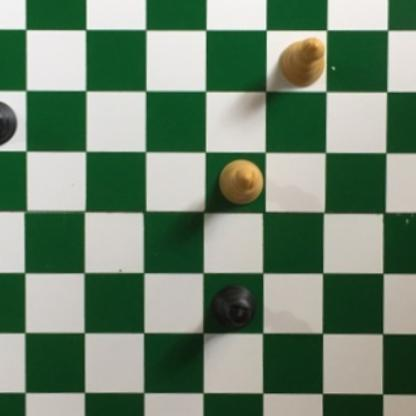black-bishop: (210, 285, 256, 332), (0, 100, 20, 147)
white-bishop: (218, 155, 268, 208), (275, 38, 326, 89)
